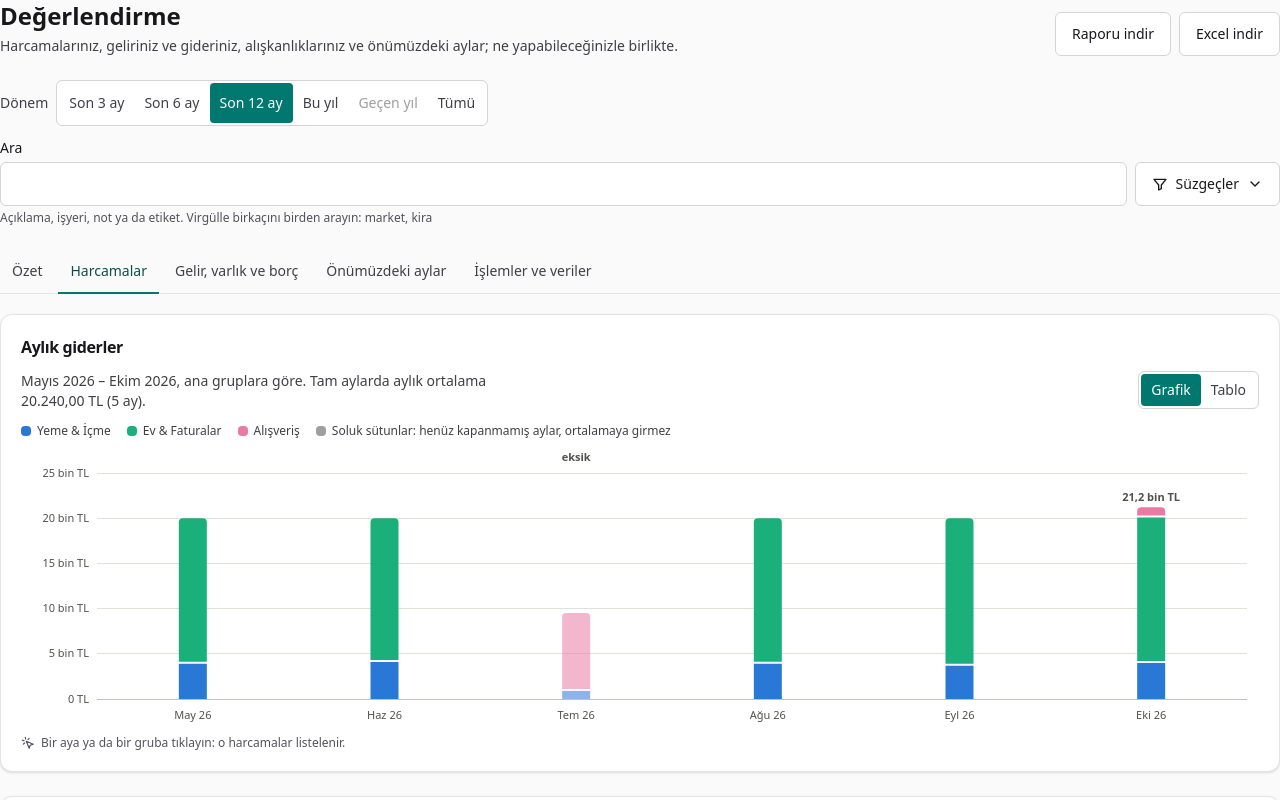
Test: InsightsPage › marks the partial month in the monthly heat table, whose average counts the whole months alone
Expected: the list item "Soluk sütunlar: henüz kapanmamış aylar, ortalamaya girmez" is shown, [316,423,671,439]
Click the tab "Tablo" at coordinates (1228, 390), box [1201,374,1256,406]
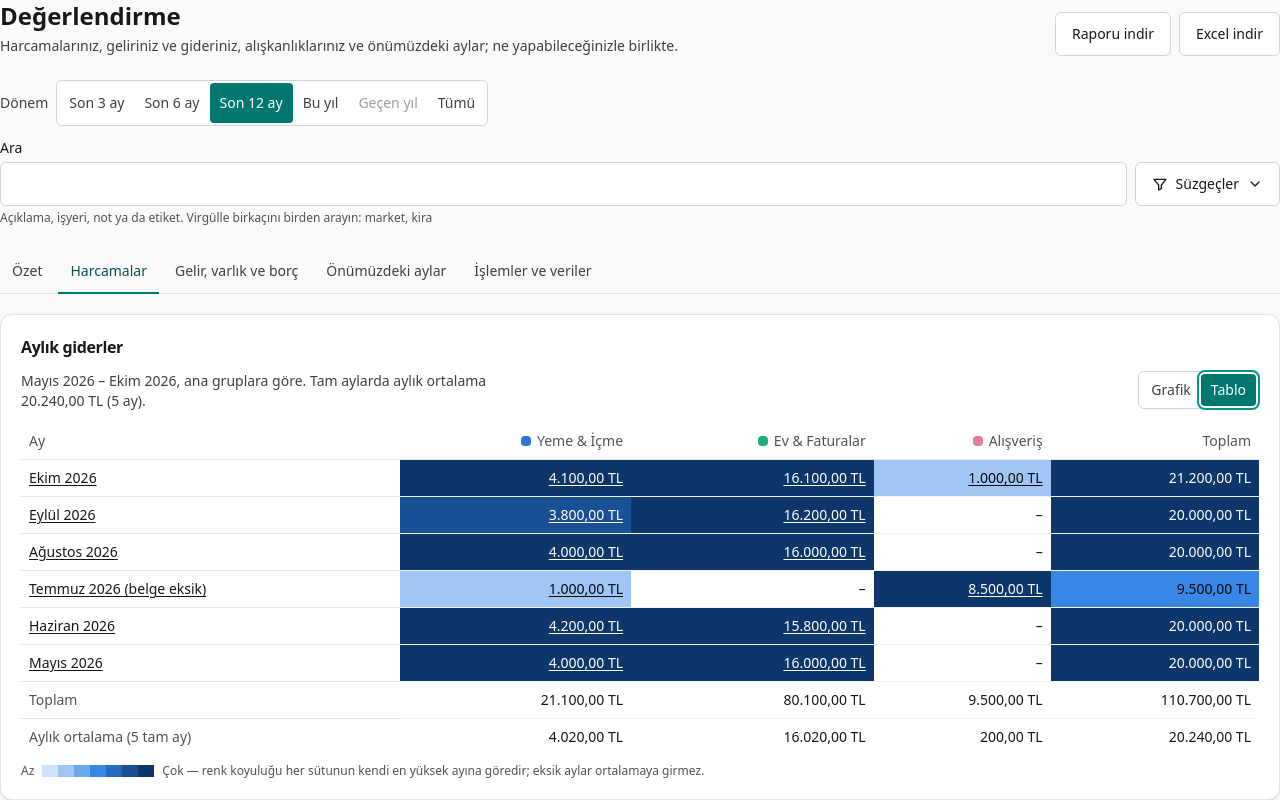
Result: the column heading "Temmuz 2026 (belge eksik)" is shown at [21,570,400,608]
Result: the cell "20.240,00 TL" is shown at [1051,718,1259,755]
